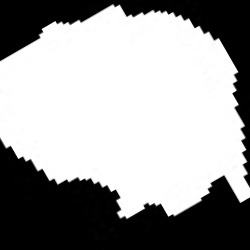spot: (1, 4, 248, 220)
